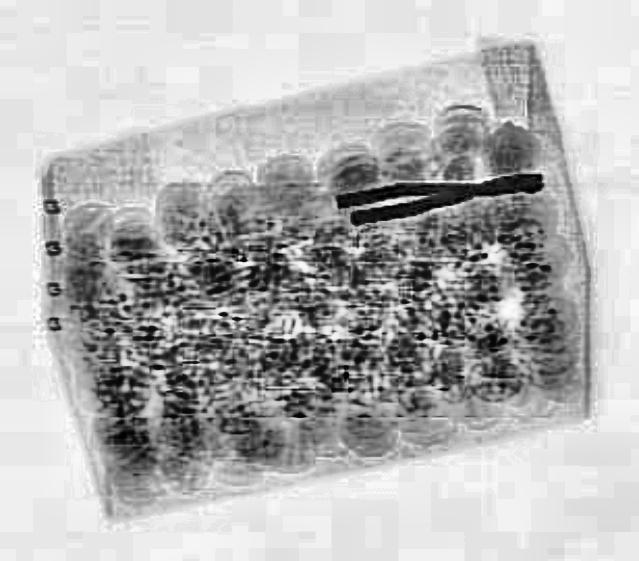Pliers: (329, 158, 547, 222)
